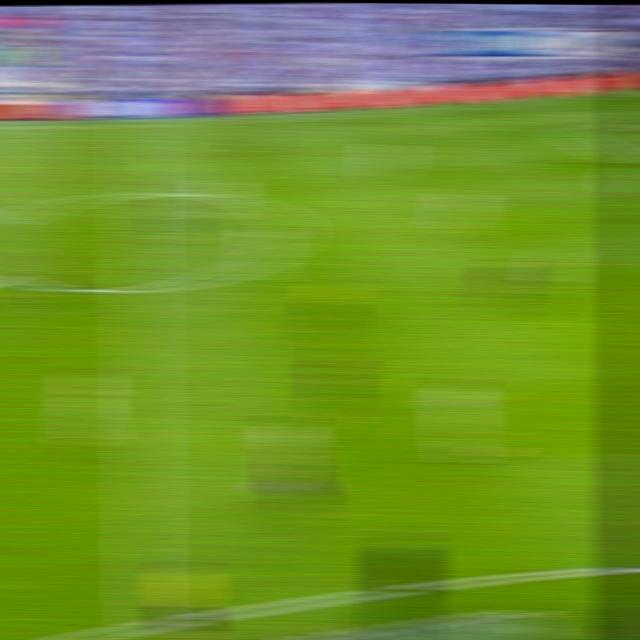halfcircle_bottom: (121, 270, 159, 305)
halfcircle_top: (121, 178, 157, 208)
midline_bottom_intersection: (124, 602, 164, 636)
midline_top_intersection: (122, 117, 155, 133)
